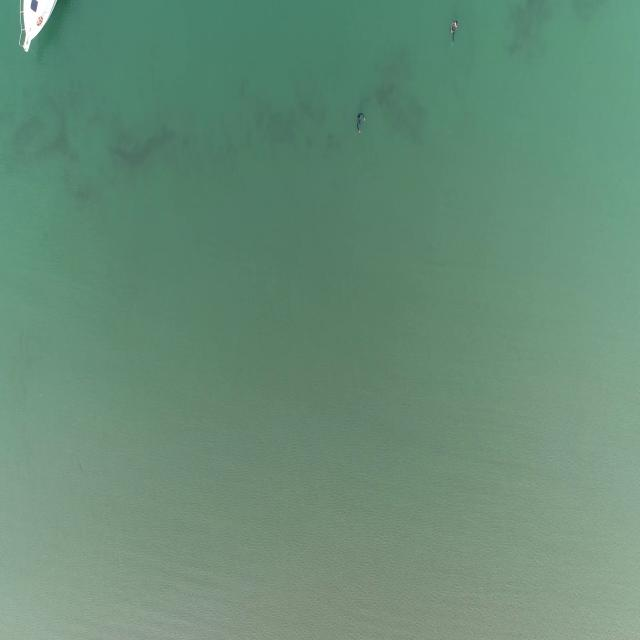person: (449, 17, 461, 45), (354, 111, 368, 134)
